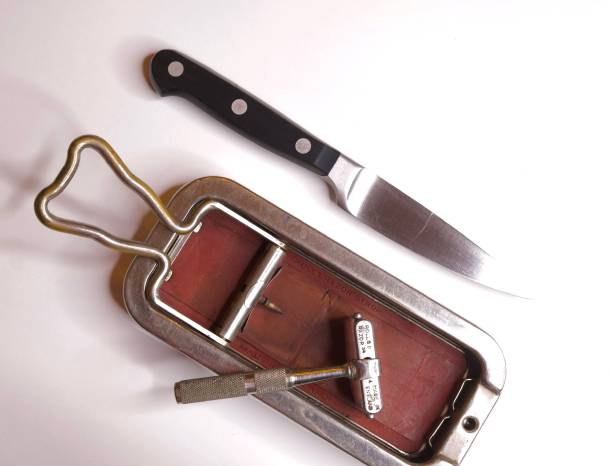knife: (145, 47, 544, 303)
